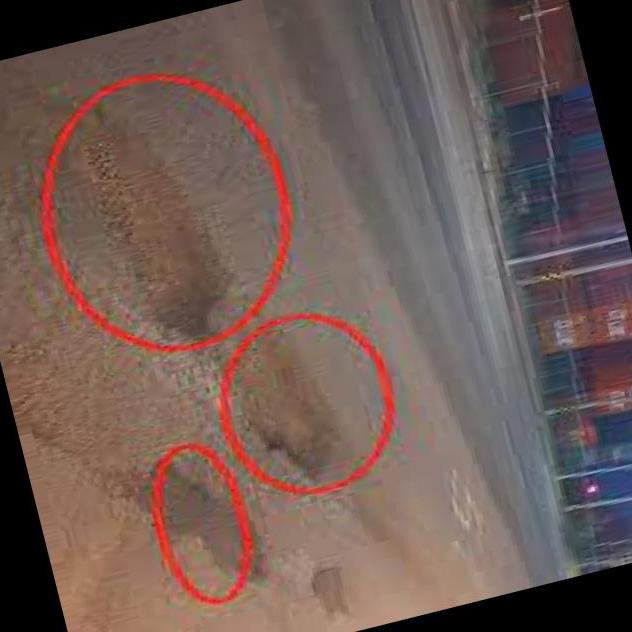pothole: (75, 116, 259, 354), (100, 430, 289, 621), (222, 311, 373, 494)
